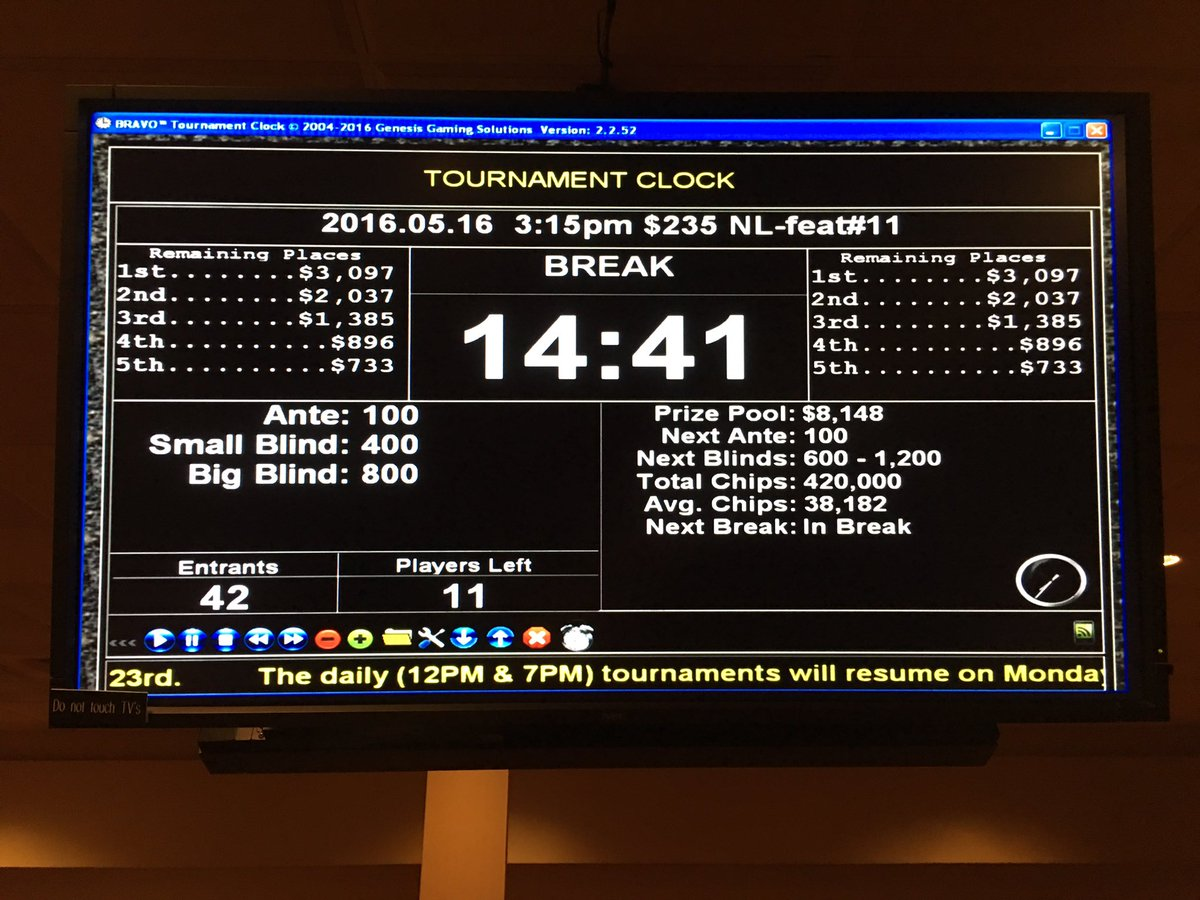PlayersLeft: (336, 547, 600, 613)
Remaining: (111, 239, 411, 403), (807, 245, 1098, 405)
TournamentClock: (106, 196, 1106, 615)
